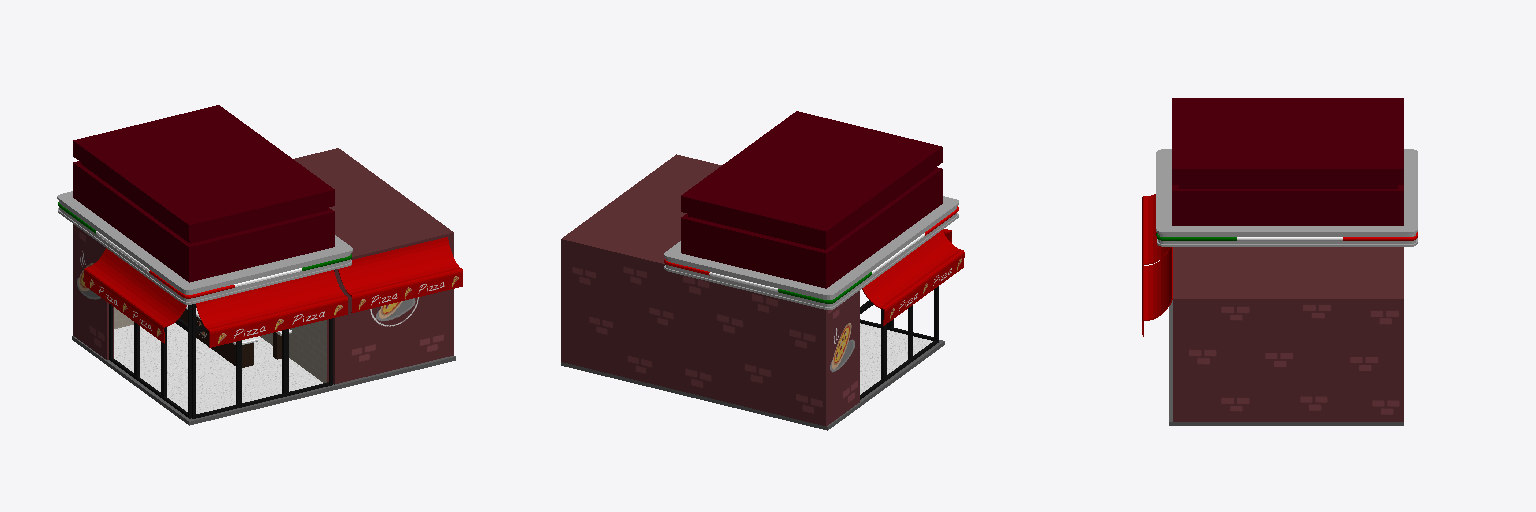
The picture shows the model from 3 angles: view 1: azimuth 30°, elevation 25°; view 2: azimuth 150°, elevation 25°; view 3: azimuth 270°, elevation 25°; orthographic projection.
Parts seen in each view (by area): view 1: pizzeria; view 2: pizzeria; view 3: pizzeria.
Boxes of the visible parts, <box> form: pizzeria: <box>57,105,462,425</box>; pizzeria: <box>561,111,964,430</box>; pizzeria: <box>1142,98,1417,425</box>.
Size of the model in its own units: 43.47 by 28.53 by 35.94.
Materials: 8 (8 with a texture image).